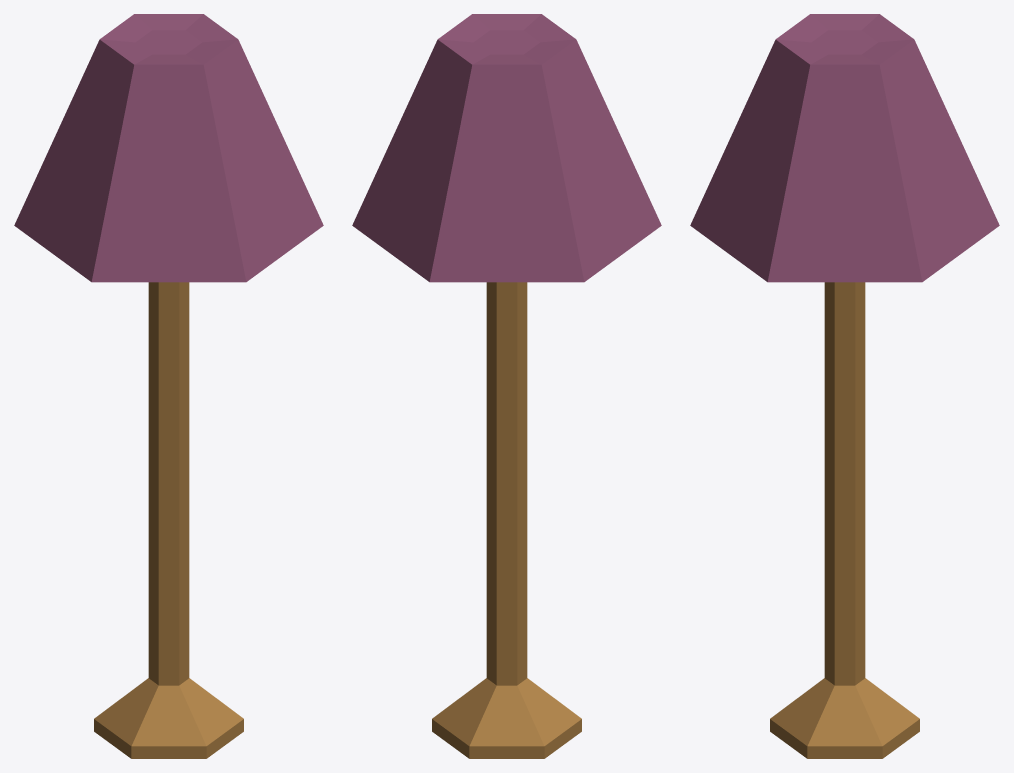
File: DimLamp.fbx
3 renders of one model, left to right at view 1: azimuth 30°, elevation 25°; view 2: azimuth 150°, elevation 25°; view 3: azimuth 270°, elevation 25°, orthographic.
Visible parts, largest first — view 1: DimLamp; view 2: DimLamp; view 3: DimLamp.
Part boxes in pixels (left/top/right/bottom): DimLamp: left=14, top=14, right=323, bottom=758; DimLamp: left=352, top=14, right=661, bottom=758; DimLamp: left=690, top=14, right=999, bottom=758.
Size of the model in its own units: 0.3637 by 0.42 by 1.04.
